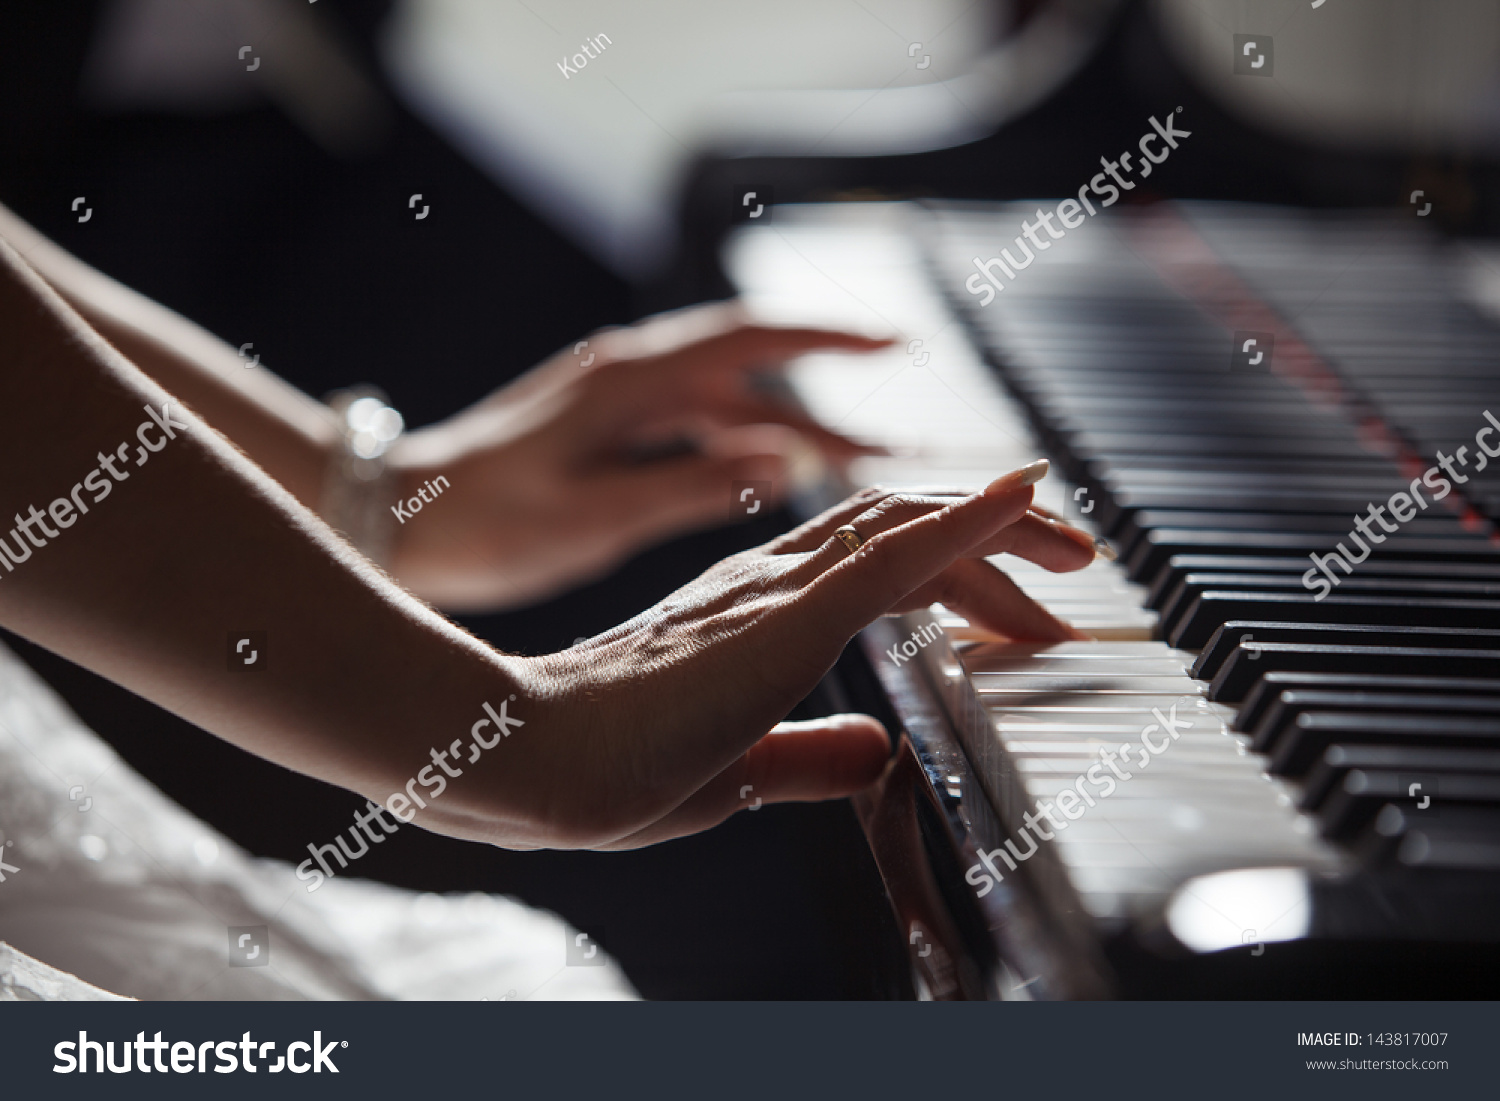Piano: (668, 33, 1500, 980)
